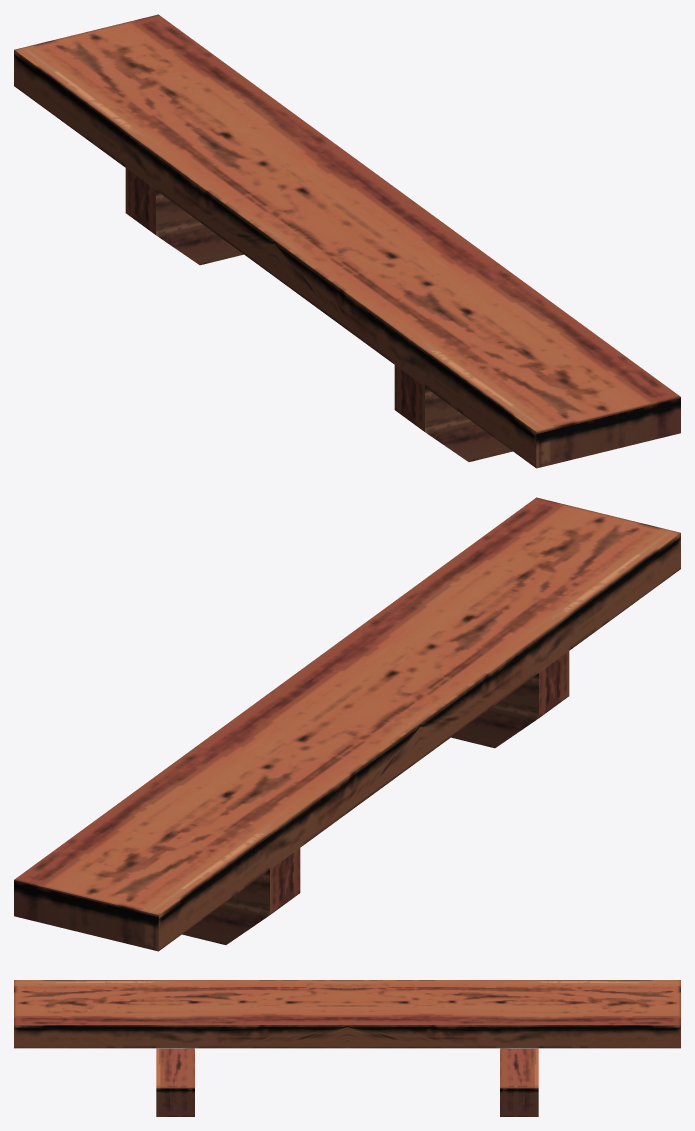
Rendered from BthRmShelf.fbx.
The picture shows the model from 3 angles, top to bottom: view 1: azimuth 30°, elevation 25°; view 2: azimuth 150°, elevation 25°; view 3: azimuth 270°, elevation 25°; orthographic projection. The views are drawn at different scales.
Parts seen in each view (by area): view 1: polySurface29; view 2: polySurface29; view 3: polySurface29.
Part boxes in pixels (x1,y1,x2,y2): polySurface29: (14, 14, 680, 468); polySurface29: (14, 497, 680, 951); polySurface29: (14, 980, 680, 1116).
Bounding box in the file's own units: 26.09 × 16.2 × 125.
